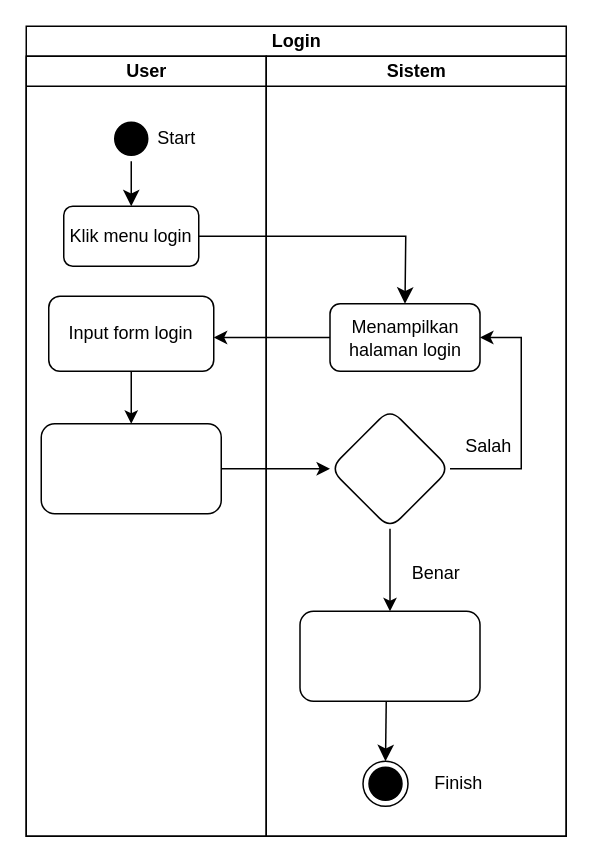
Image size: 593x863. Some labels were removed from this diagram. The shapes that lost their labels are listed below. From the top down, each one's centre as x and y in pixels, then its label:
At (130,468): "Klik tombol login".
At (389,468): "Validasi".
At (389,655): "Menampilan halaman utama".
